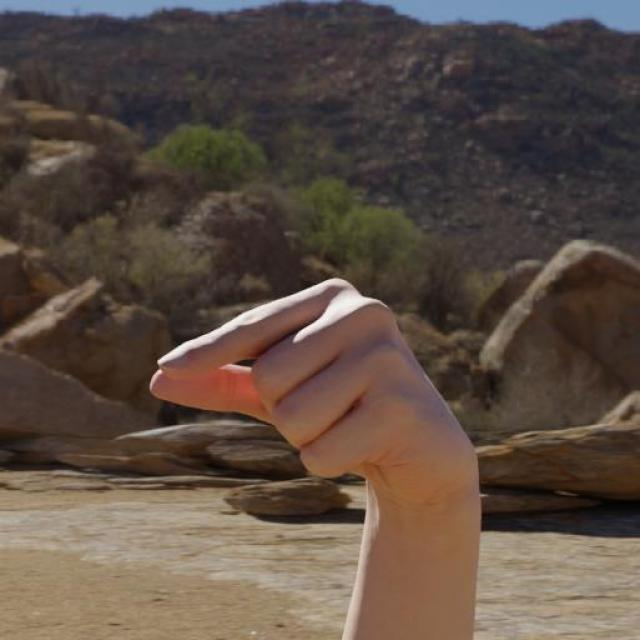G: (146, 272, 488, 498)
